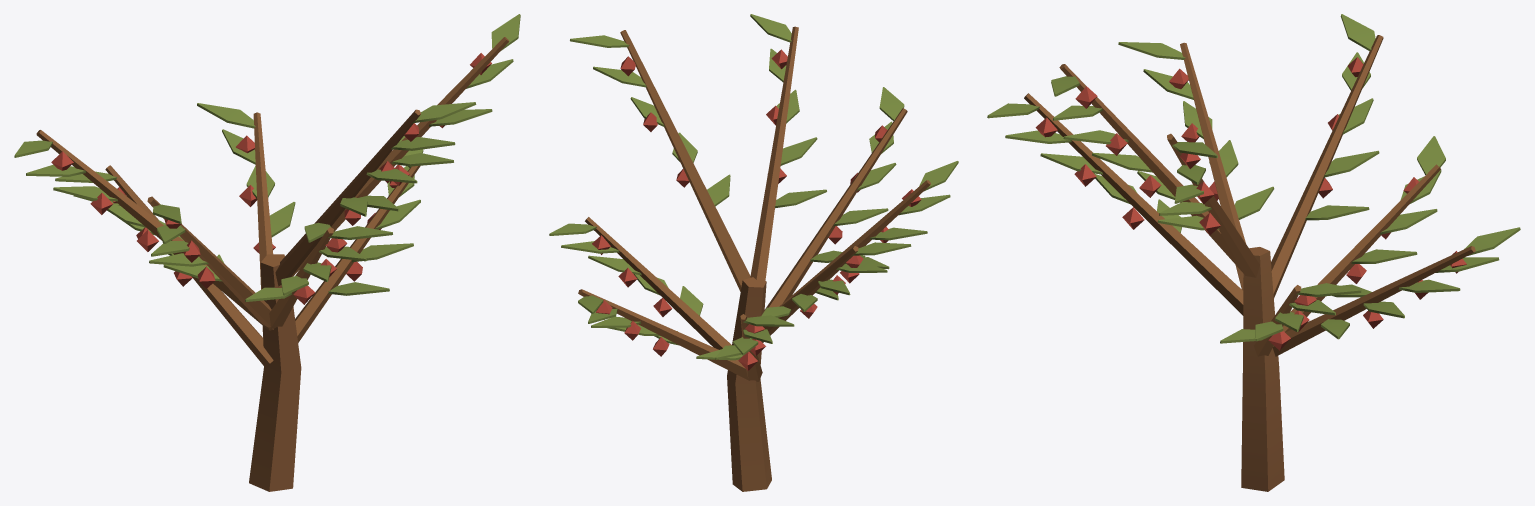
File: crop_apple_tree_mature.glb
The picture shows the model from 3 angles, left to right: view 1: azimuth 30°, elevation 25°; view 2: azimuth 150°, elevation 25°; view 3: azimuth 270°, elevation 25°; orthographic projection. The views are drawn at different scales.
Parts seen in each view (by area): view 1: apple_branch_00, apple_leaf_00_00, apple_fruit_00_0; view 2: apple_branch_00, apple_leaf_00_00, apple_fruit_00_0; view 3: apple_branch_00, apple_leaf_00_00, apple_fruit_00_0.
Boxes of the visible parts, <box> form: apple_branch_00: <box>36,37,509,491</box>; apple_leaf_00_00: <box>14,14,520,301</box>; apple_fruit_00_0: <box>51,53,491,304</box>; apple_branch_00: <box>578,26,930,491</box>; apple_leaf_00_00: <box>549,14,958,360</box>; apple_fruit_00_0: <box>592,49,921,370</box>; apple_branch_00: <box>1024,35,1475,491</box>; apple_leaf_00_00: <box>987,14,1520,343</box>; apple_fruit_00_0: <box>1035,57,1466,350</box>.
Bounding box in the file's own units: 1.97 × 1.84 × 2.01.
